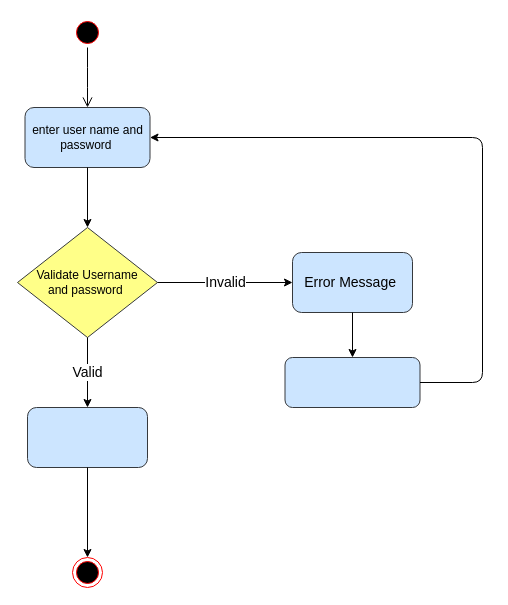
Image size: 508x605. Some labels were removed from this diagram. Each missing label, with the centre of its shape:
"Clear Fields" belongs at pixel 352 382.
"successfully signed in" belongs at pixel 87 437.
